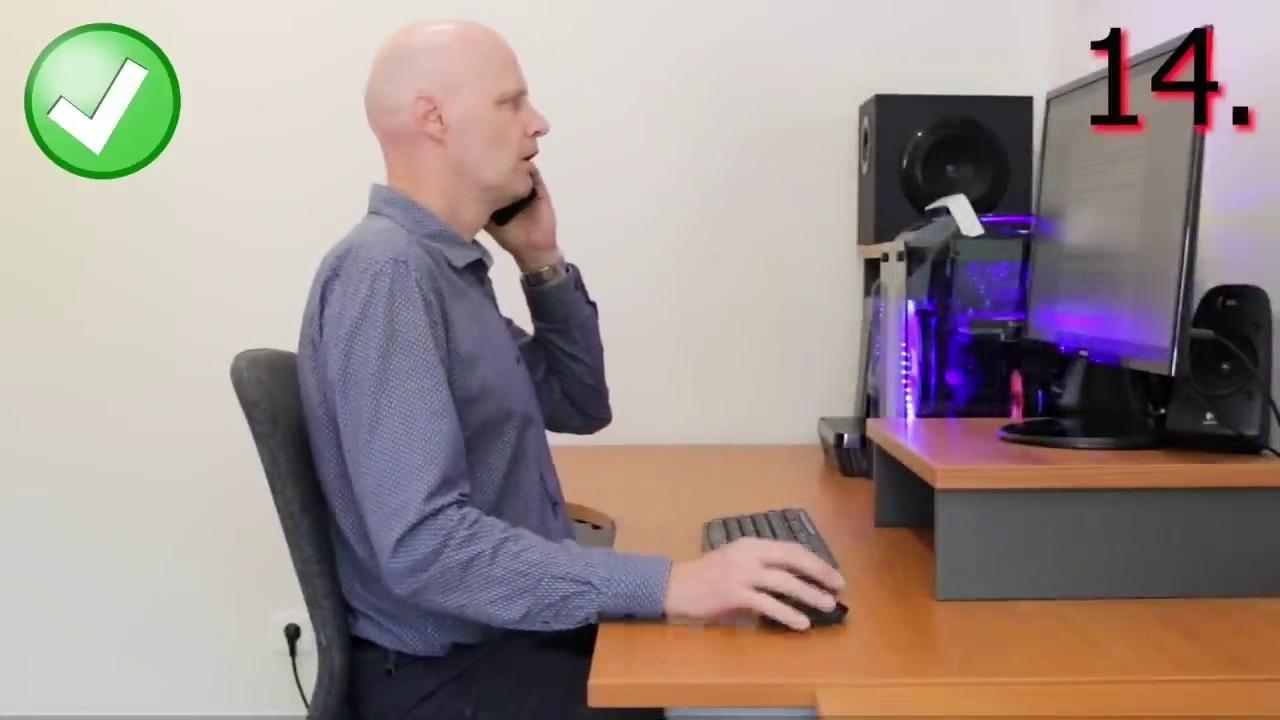GoodPosture: (298, 21, 802, 719)
